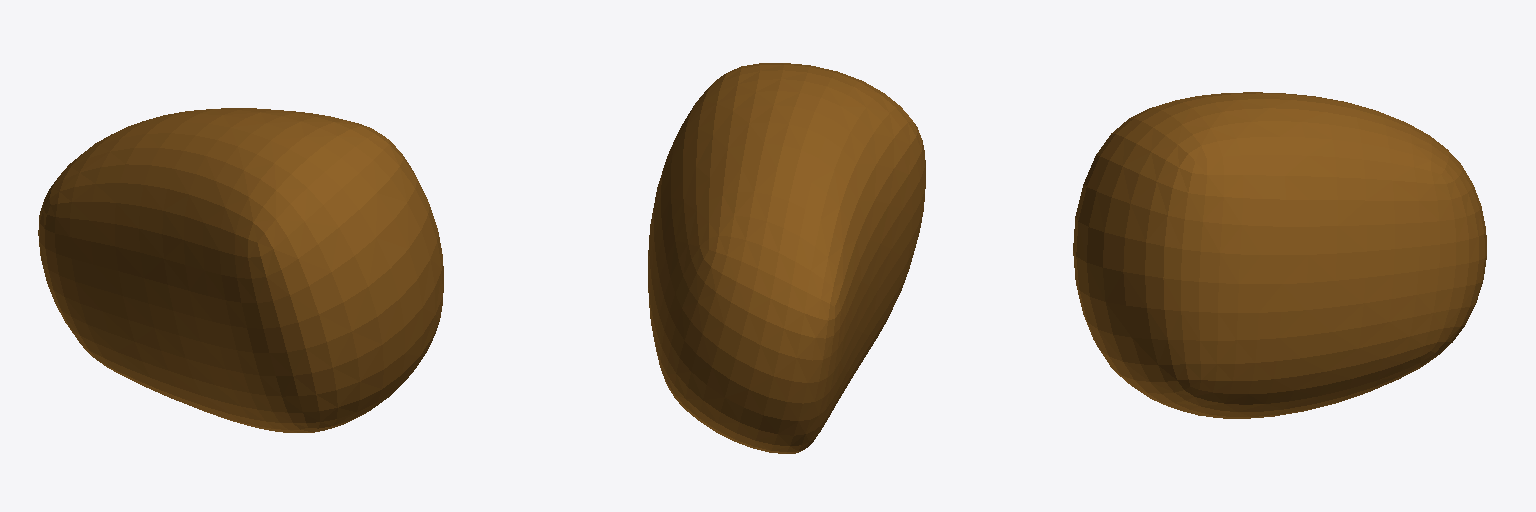
File: fing1_3.obj
3 views of the same model, side by side, from view 1: azimuth 30°, elevation 25°; view 2: azimuth 150°, elevation 25°; view 3: azimuth 270°, elevation 25° (orthographic).
Parts seen in each view (by area): view 1: f1o3; view 2: f1o3; view 3: f1o3.
Part boxes in pixels (x1,y1,x2,y2): f1o3: (38,108,443,432); f1o3: (648,63,925,453); f1o3: (1073,92,1486,418).
Bounding box in the file's own units: 0.7197 × 0.7544 × 0.9322.